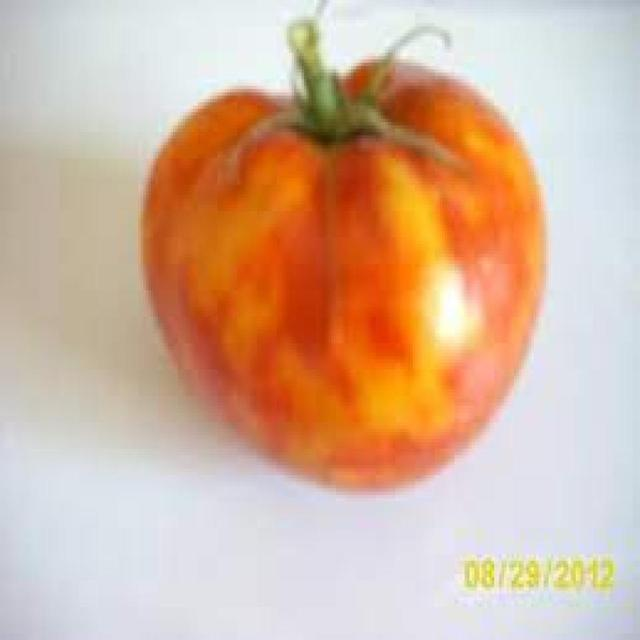Spotted wilt Virus Fruit: (86, 15, 191, 112)
